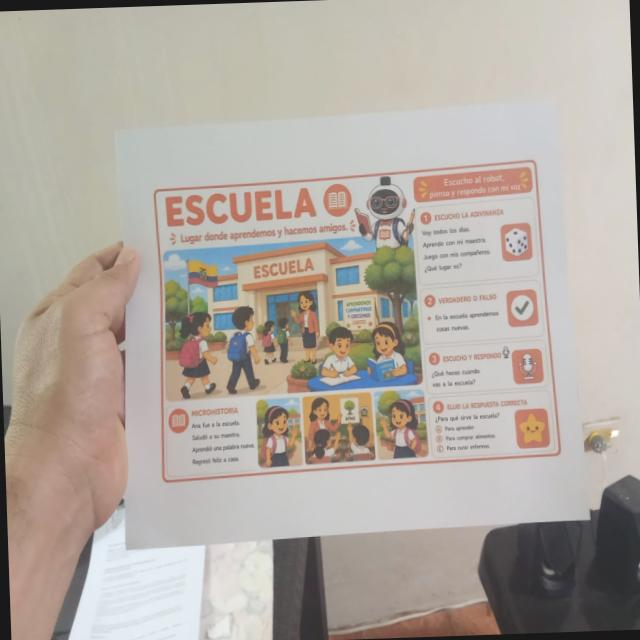escuela: (148, 150, 566, 487)
